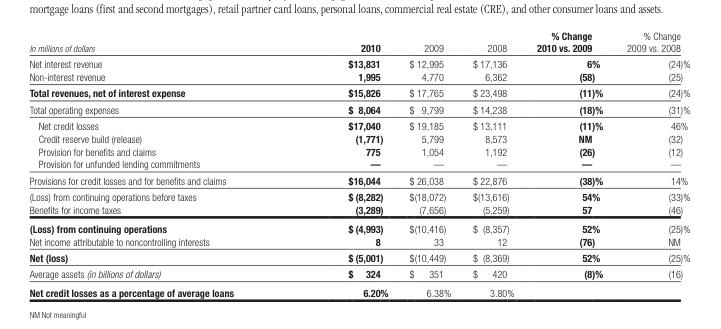table: (28, 28, 689, 298)
table column: (28, 28, 290, 298), (290, 28, 398, 298), (524, 28, 614, 298), (614, 28, 689, 298), (398, 28, 461, 298), (461, 28, 524, 298)
table column header: (28, 28, 689, 55)
table row: (28, 28, 689, 55), (28, 100, 689, 117), (28, 171, 689, 188), (28, 248, 689, 265), (28, 265, 689, 282), (28, 84, 689, 100), (28, 202, 689, 218), (28, 218, 689, 234), (28, 282, 689, 298), (28, 69, 689, 84), (28, 55, 689, 69), (28, 117, 689, 131), (28, 157, 689, 171), (28, 188, 689, 202), (28, 234, 689, 248), (28, 131, 689, 144), (28, 144, 689, 157)
